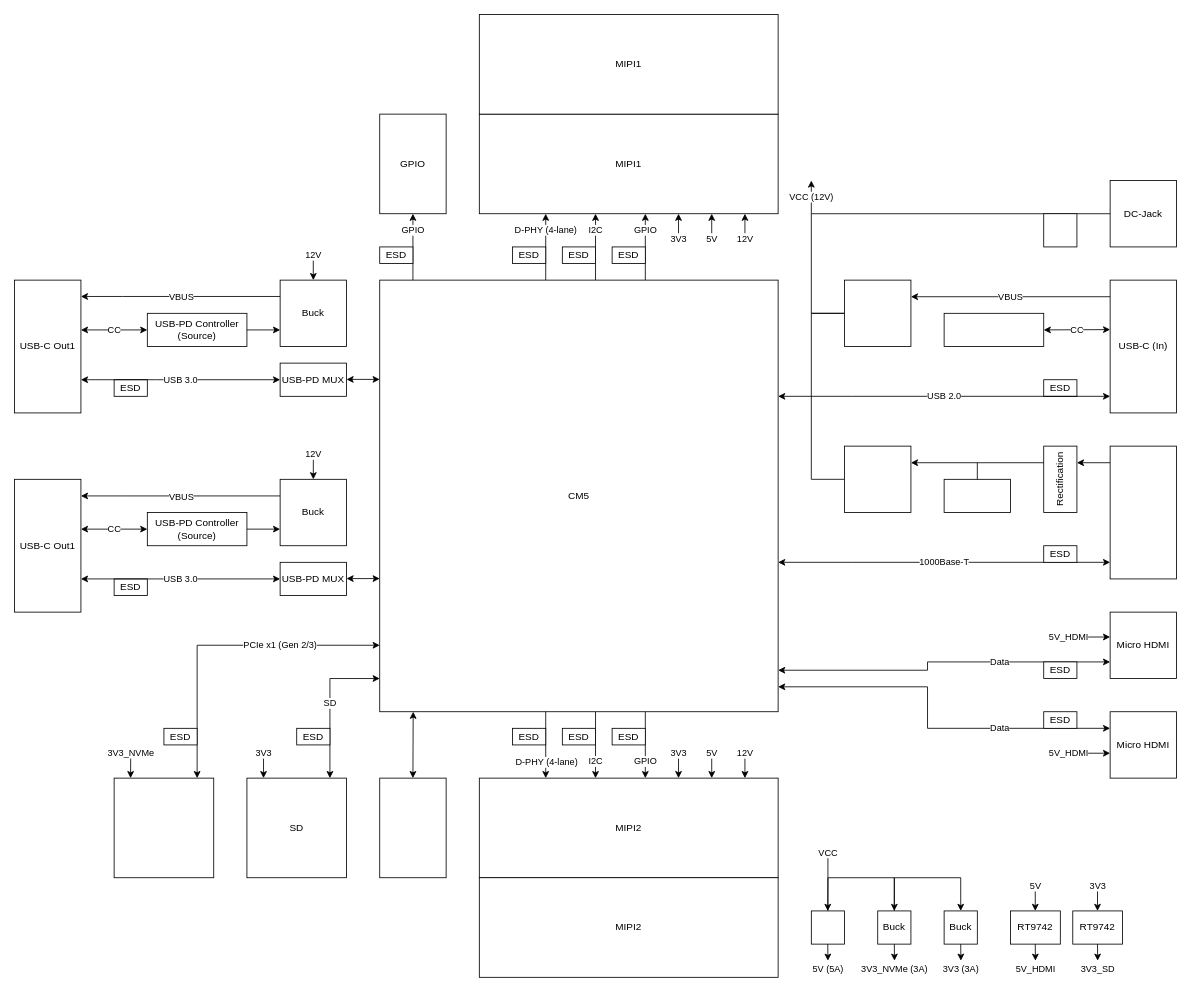
The diagram is 1191 pixels wide and 992 high, and some of its shapes have lost their labels. The centre of each missing label's shape, as x and y in pixels:
Buck-Boost: (877,313)
DC/DC: (827,927)
Ethernet: (1143,512)
FAN: (412,827)
Isolated DC/DC: (877,479)
NVMe: (163,827)
OVP: (1060,230)
POE++ Controller: (977,495)
USB-PD Controller (Sink): (993,329)
